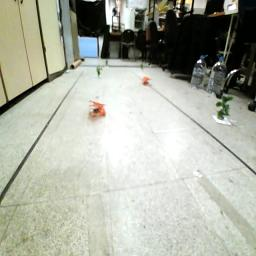herb: (217, 95, 232, 120), (97, 67, 104, 77)
wild: (89, 101, 108, 118), (142, 76, 152, 87)
